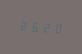six: (29, 19, 39, 33)
two: (18, 18, 28, 33), (40, 19, 50, 34)
zero: (51, 20, 61, 35)
